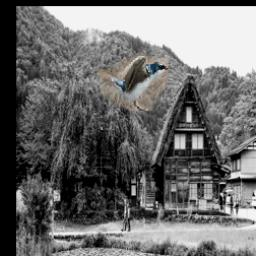Swallow: (98, 54, 170, 112)
